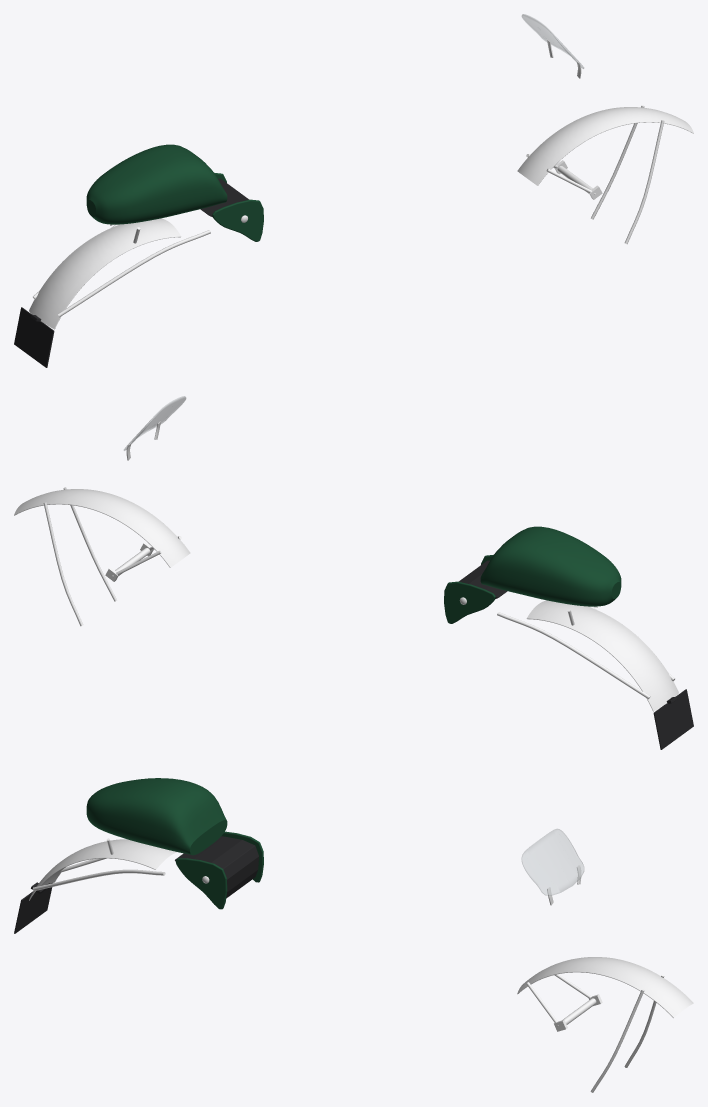
File: bike_cafe_racer__bodywork.glb
The picture shows the model from 3 angles, top to bottom: view 1: azimuth 30°, elevation 25°; view 2: azimuth 150°, elevation 25°; view 3: azimuth 330°, elevation 25°; orthographic projection.
Parts seen in each view (by area): view 1: frame_body__tail_cowl, frame_body__rear_mudguard, frame_body__front_mudguard, frame_body__front_mudguard__stays, frame_body__side_panels, frame_body__number_plate_bracket, frame_body__rear_mudguard__stays, frame_body__flyscreen; view 2: frame_body__tail_cowl, frame_body__rear_mudguard, frame_body__front_mudguard, frame_body__front_mudguard__stays, frame_body__side_panels, frame_body__number_plate_bracket, frame_body__rear_mudguard__stays, frame_body__flyscreen; view 3: frame_body__tail_cowl, frame_body__front_mudguard, frame_body__flyscreen, frame_body__battery_box, frame_body__rear_mudguard, frame_body__side_panels, frame_body__front_mudguard__stays, frame_body__number_plate_bracket, frame_body__rear_mudguard__stays.
Part boxes in pixels (x1=…): frame_body__tail_cowl: x1=86, y1=144, x2=227, y2=224; frame_body__rear_mudguard: x1=29, y1=218, x2=181, y2=329; frame_body__front_mudguard: x1=517, y1=107, x2=693, y2=185; frame_body__front_mudguard__stays: x1=526, y1=105, x2=664, y2=244; frame_body__side_panels: x1=212, y1=172, x2=263, y2=241; frame_body__number_plate_bracket: x1=14, y1=307, x2=54, y2=367; frame_body__rear_mudguard__stays: x1=33, y1=224, x2=210, y2=317; frame_body__flyscreen: x1=521, y1=14, x2=583, y2=68; frame_body__tail_cowl: x1=480, y1=526, x2=621, y2=606; frame_body__rear_mudguard: x1=526, y1=600, x2=678, y2=711; frame_body__front_mudguard: x1=14, y1=489, x2=190, y2=567; frame_body__front_mudguard__stays: x1=43, y1=487, x2=181, y2=626; frame_body__side_panels: x1=444, y1=554, x2=495, y2=623; frame_body__number_plate_bracket: x1=653, y1=689, x2=693, y2=749; frame_body__rear_mudguard__stays: x1=497, y1=606, x2=674, y2=699; frame_body__flyscreen: x1=124, y1=396, x2=186, y2=450; frame_body__tail_cowl: x1=86, y1=778, x2=227, y2=855; frame_body__front_mudguard: x1=517, y1=957, x2=693, y2=1017; frame_body__flyscreen: x1=521, y1=828, x2=584, y2=895; frame_body__battery_box: x1=175, y1=836, x2=258, y2=898; frame_body__rear_mudguard: x1=29, y1=839, x2=177, y2=900; frame_body__side_panels: x1=175, y1=831, x2=263, y2=909; frame_body__front_mudguard__stays: x1=526, y1=974, x2=664, y2=1092; frame_body__number_plate_bracket: x1=14, y1=882, x2=52, y2=933; frame_body__rear_mudguard__stays: x1=32, y1=838, x2=165, y2=890.
Size of the model in its own units: 199 by 65.34 by 24.95.
